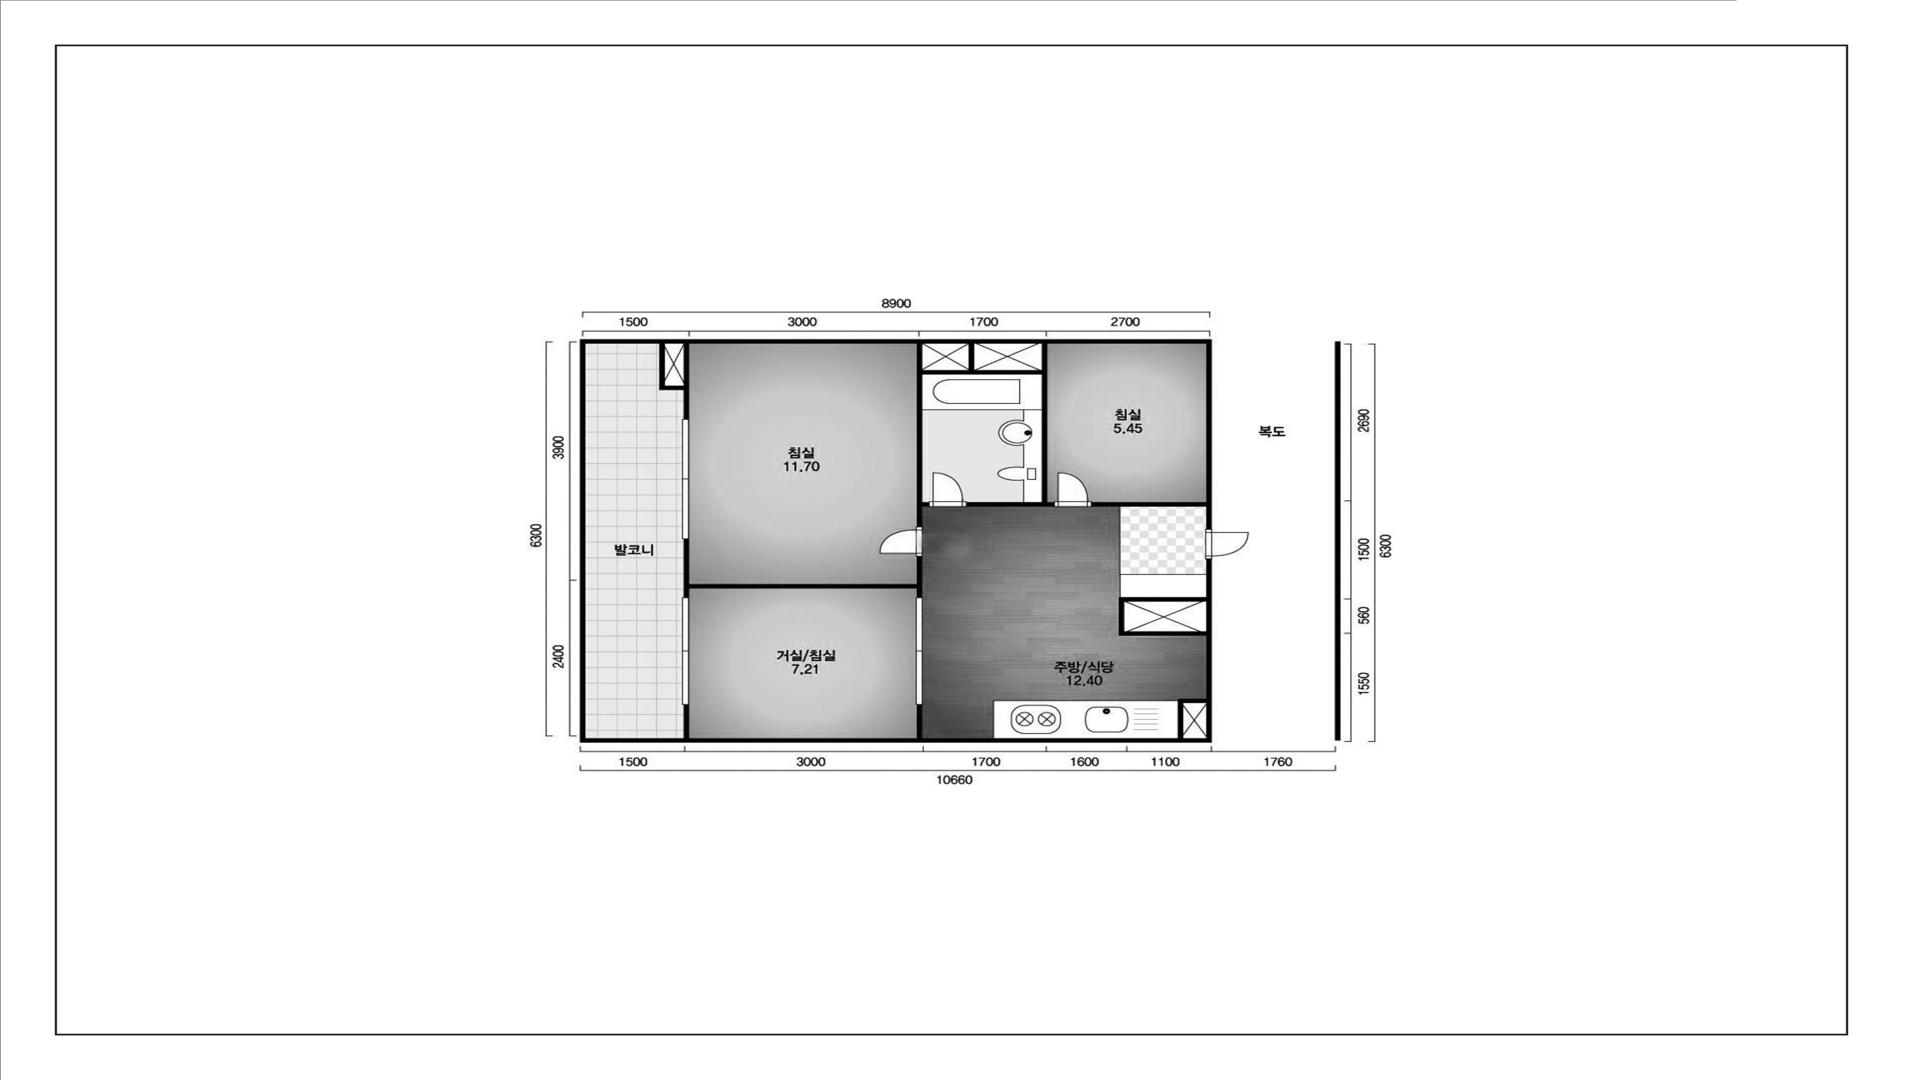door: (878, 526, 923, 558), (1205, 529, 1249, 560), (1054, 472, 1092, 508), (930, 472, 967, 508)
wall: (579, 339, 1212, 742), (916, 344, 1054, 526), (683, 539, 923, 597), (1118, 597, 1207, 637), (659, 344, 690, 419), (1178, 699, 1207, 738), (1092, 501, 1205, 508), (683, 704, 688, 738), (916, 704, 922, 738), (923, 502, 930, 506)
window: (682, 419, 690, 539), (682, 597, 690, 704), (915, 597, 923, 704)
